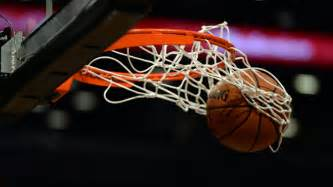basketball: (205, 68, 290, 153)
